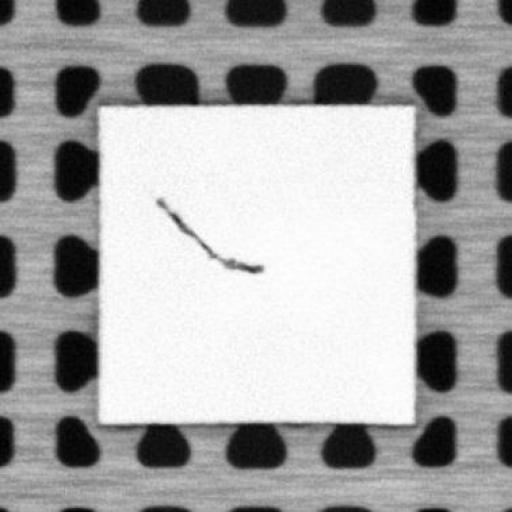DIE_INK: (155, 194, 264, 273)
